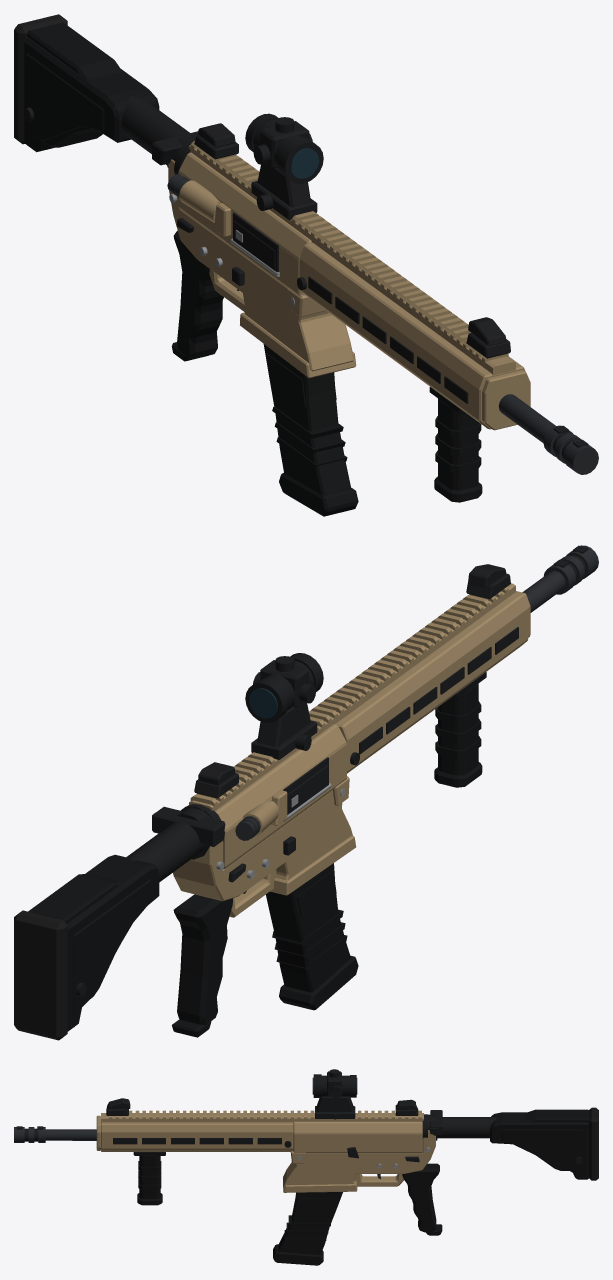
The model's file is auto_rifle.glb.
The picture shows the model from 3 angles, top to bottom: view 1: azimuth 30°, elevation 25°; view 2: azimuth 150°, elevation 25°; view 3: azimuth 270°, elevation 25°; orthographic projection. The views are drawn at different scales.
Visible parts, largest first — view 1: body, mag, charging; view 2: body, mag, charging; view 3: body, mag, charging.
Boxes of the visible parts, x1,y1,x2,y2 form: body: [14, 14, 598, 502]; mag: [263, 344, 358, 516]; charging: [152, 131, 198, 165]; body: [14, 545, 598, 1040]; mag: [266, 863, 358, 1010]; charging: [152, 806, 225, 846]; body: [14, 1069, 598, 1235]; mag: [273, 1192, 342, 1265]; charging: [429, 1110, 442, 1135].
Size of the model in its own units: 0.0703 by 0.3121 by 0.869.
